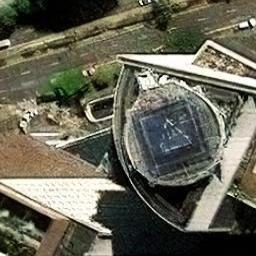heliponto: (139, 104, 205, 168)
